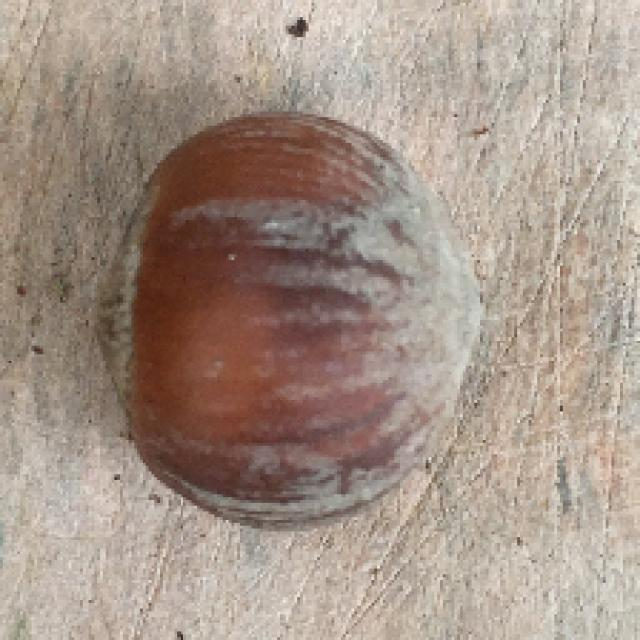damagedHazelnut: (93, 107, 487, 534)
